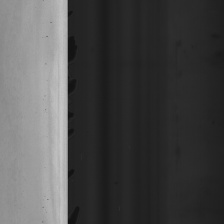inclusion: (40, 198, 45, 215), (45, 188, 50, 203), (43, 30, 48, 40), (49, 17, 54, 24), (44, 57, 48, 65)
